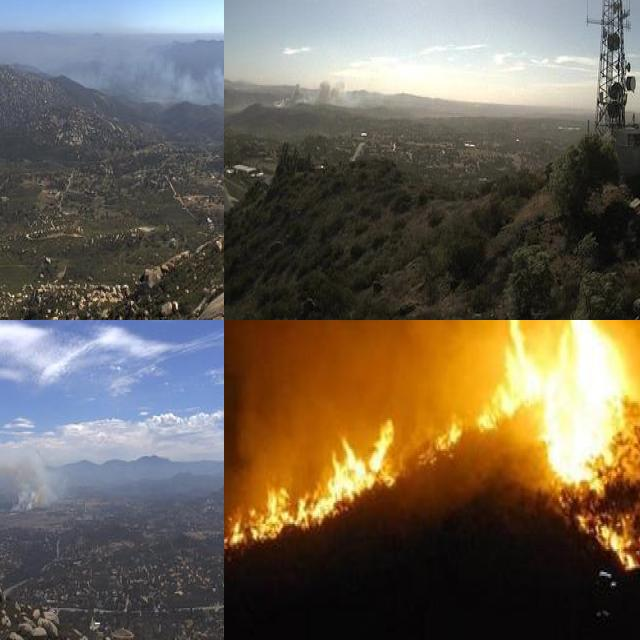fire: (438, 320, 640, 574), (224, 403, 395, 551)
smoke: (224, 320, 640, 429), (37, 7, 224, 113), (6, 441, 80, 515), (268, 72, 367, 113)
